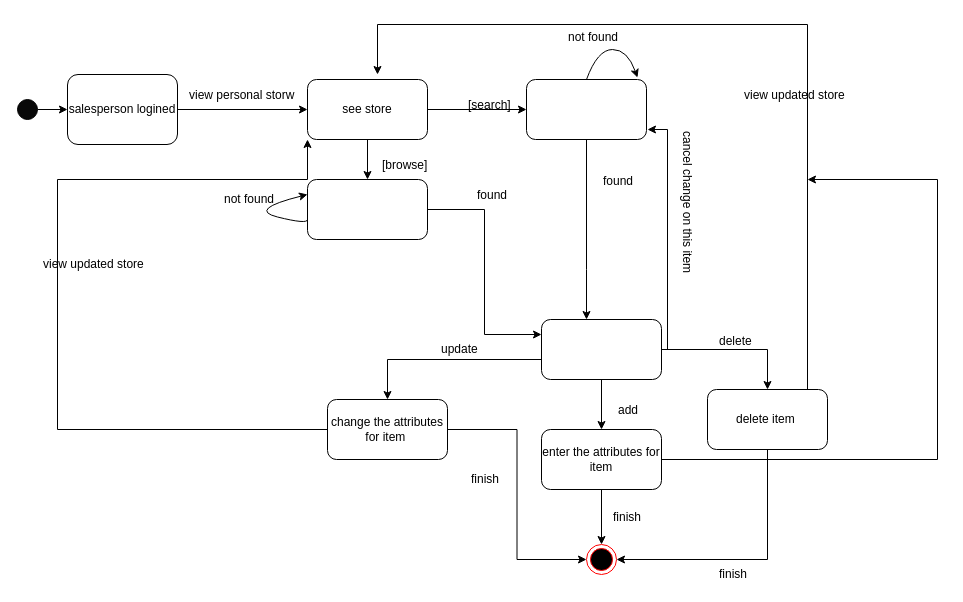
Some shapes in this 963 by 602 pixel diagram are drawn without their labels. The centre of each missing label's shape, as x and y in pixels:
browse item for change: point (367, 209)
choose mode of change: point (601, 349)
search item for change: point (586, 109)
